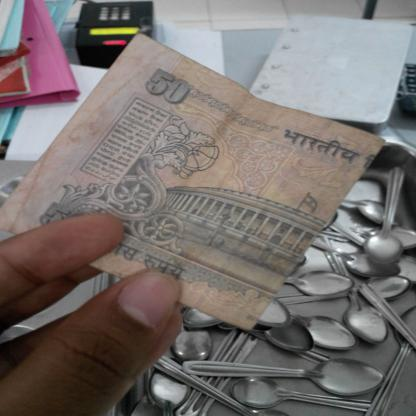Old50Back: (0, 32, 386, 334)
